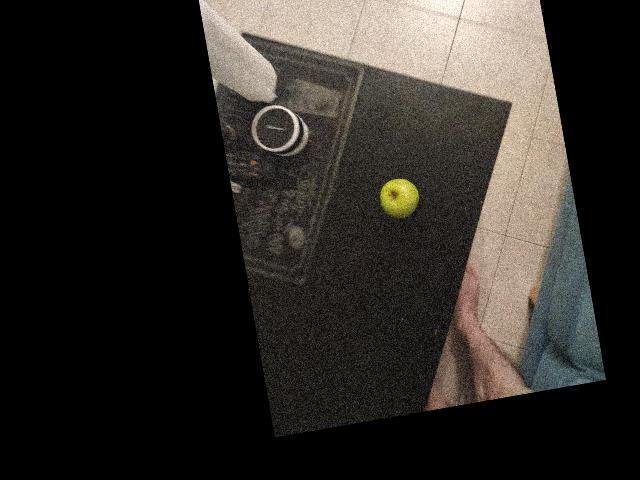apple: (428, 97, 481, 149)
